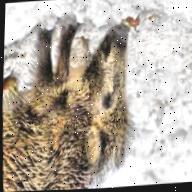boar: (0, 8, 153, 192)
